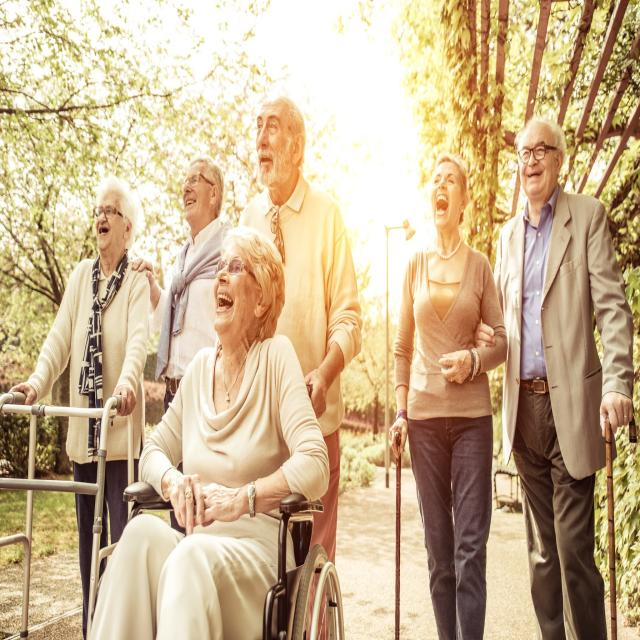body: (87, 223, 332, 640), (468, 113, 635, 639), (234, 95, 365, 640), (5, 172, 155, 640), (388, 152, 510, 640), (130, 154, 240, 536)
